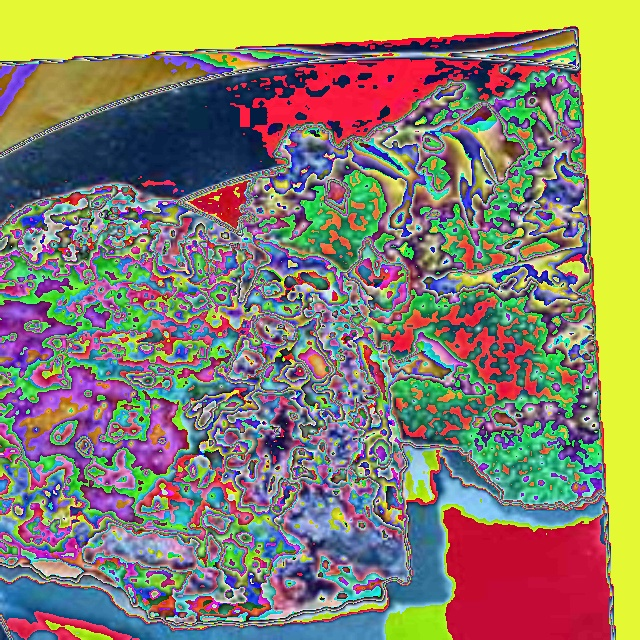background: (0, 68, 605, 624)
